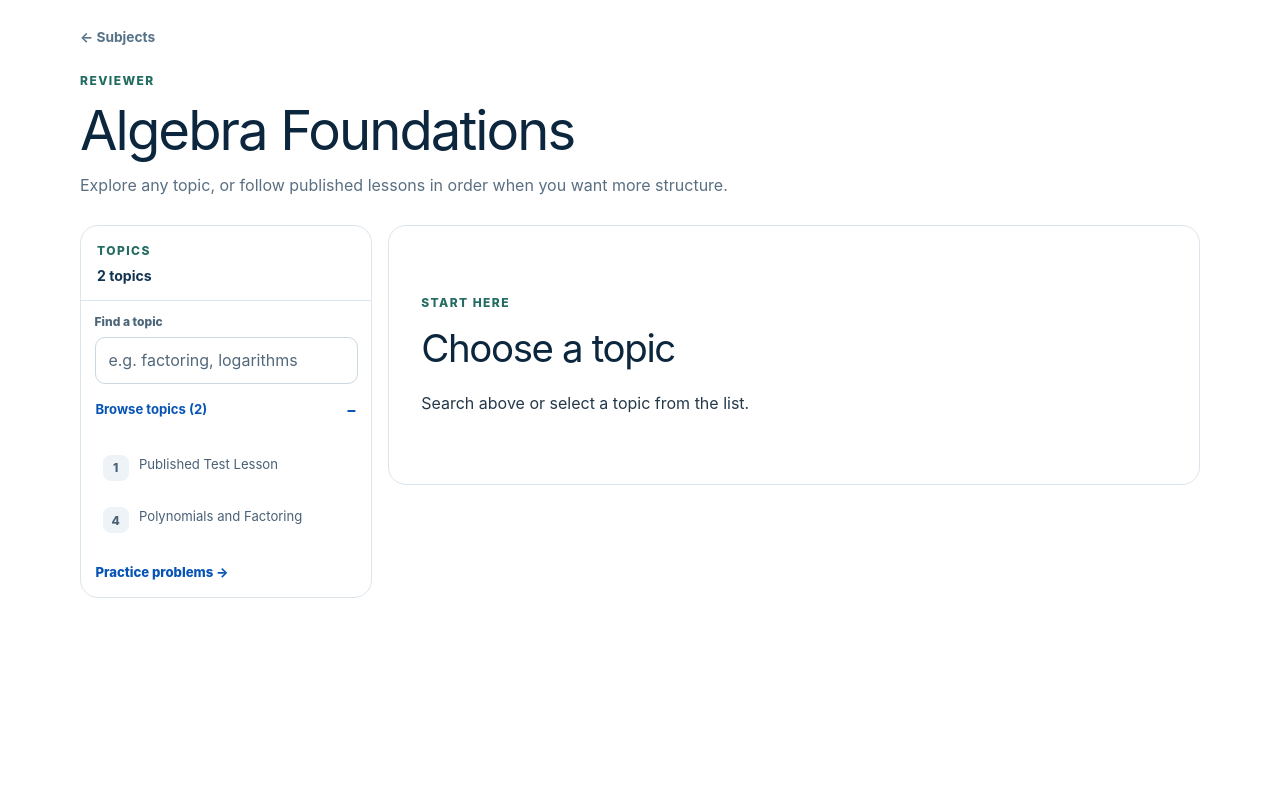
student lesson reader › finds a topic inside the reviewer and opens its matching lesson
The width and height of the screenshot is (1280, 800).
In the search field labelled "Find a topic": {"x": 226, "y": 360} [95, 337, 358, 384], type "common factors"
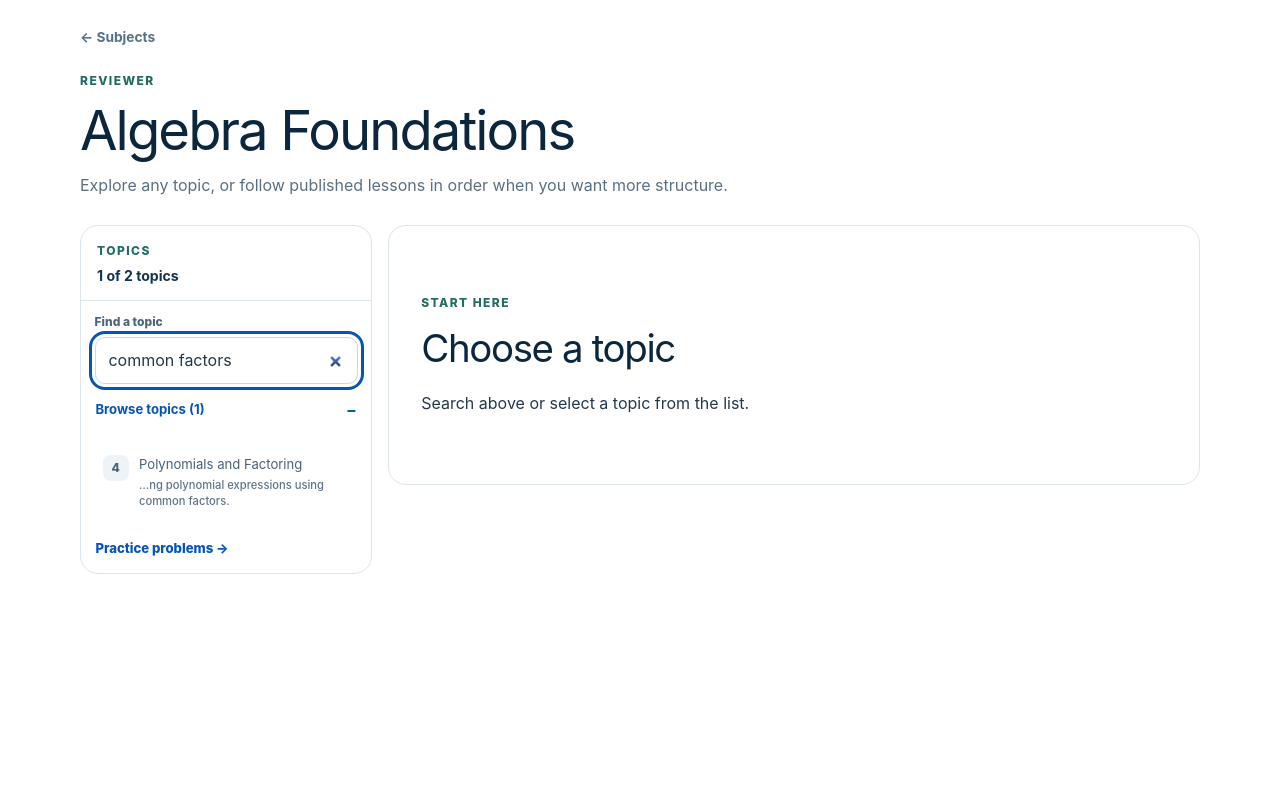
Check: the text "…ng polynomial expressions using common factors." is shown, box [139, 478, 350, 509]
Check: the link "Published Test Lesson" is gone
Click the link "Polynomials and Factoring": {"x": 213, "y": 481} [103, 455, 324, 508]
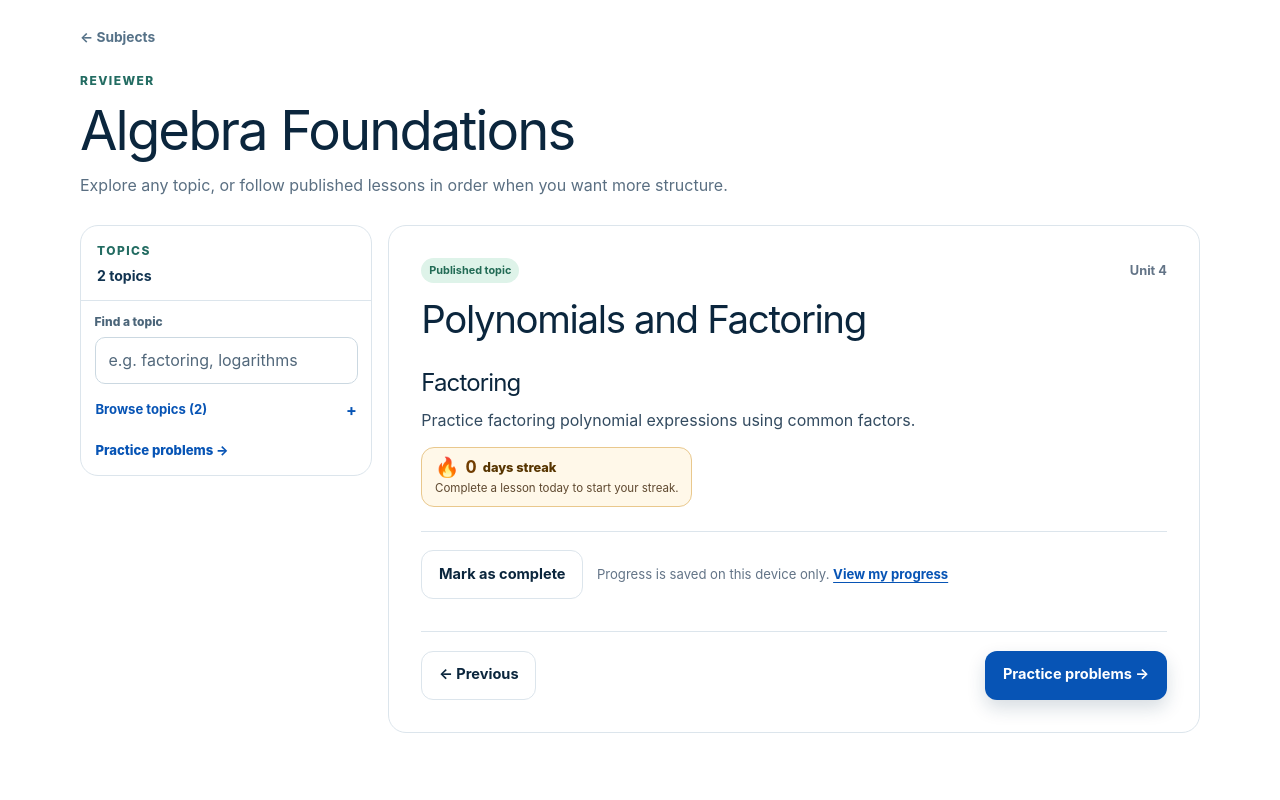
Check: the heading "Polynomials and Factoring" is shown, box [421, 296, 866, 342]
Check: the element that starts with "Published topic" shows "Practice factoring polynomial expressions", box [421, 410, 915, 430]
Check: the search field labelled "Find a topic" is empty, box [95, 337, 358, 384]
